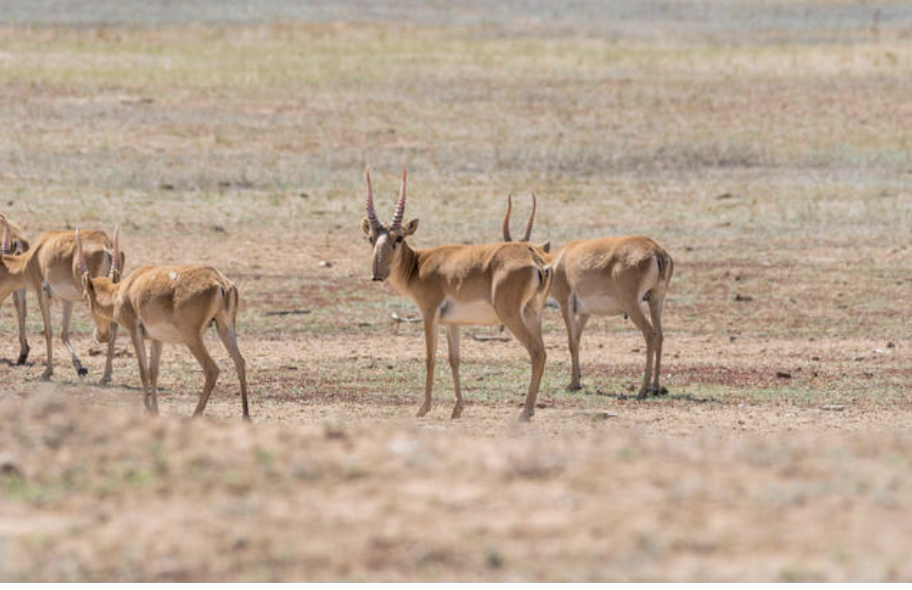saiga: (350, 158, 566, 432)
